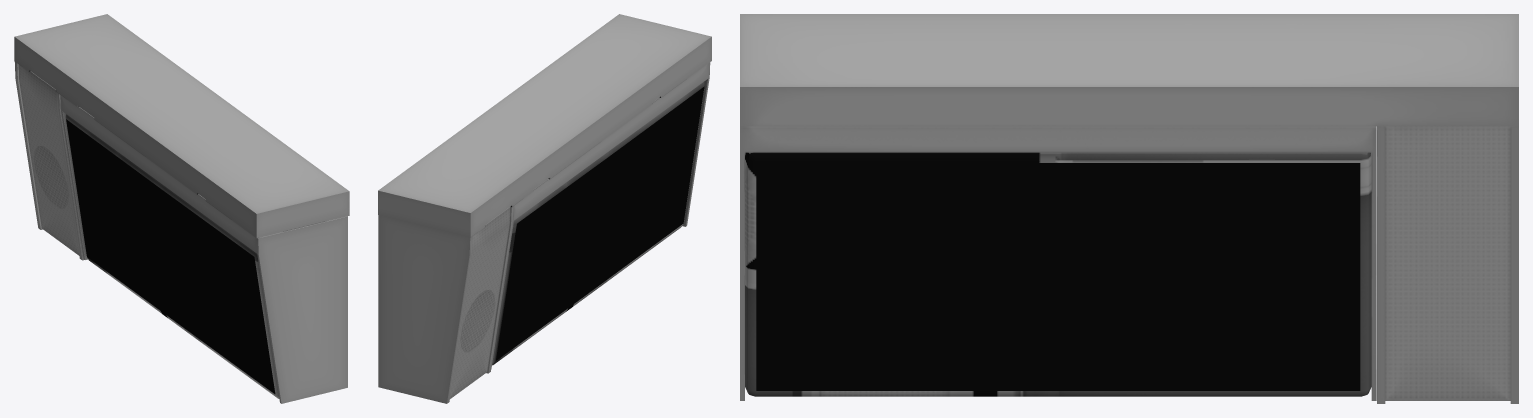
The model's file is exitSignA001_model_main_v001.fbx.
3 renders of one model, left to right at view 1: azimuth 30°, elevation 25°; view 2: azimuth 150°, elevation 25°; view 3: azimuth 270°, elevation 25°, orthographic. The views are drawn at different scales.
Parts seen in each view (by area): view 1: exitSign_MESH; view 2: exitSign_MESH; view 3: exitSign_MESH.
Boxes of the visible parts, <box> form: exitSign_MESH: <box>14,14,349,403</box>; exitSign_MESH: <box>378,14,711,403</box>; exitSign_MESH: <box>740,14,1518,403</box>.
Size of the model in its own units: 14.99 by 30.42 by 67.65.
